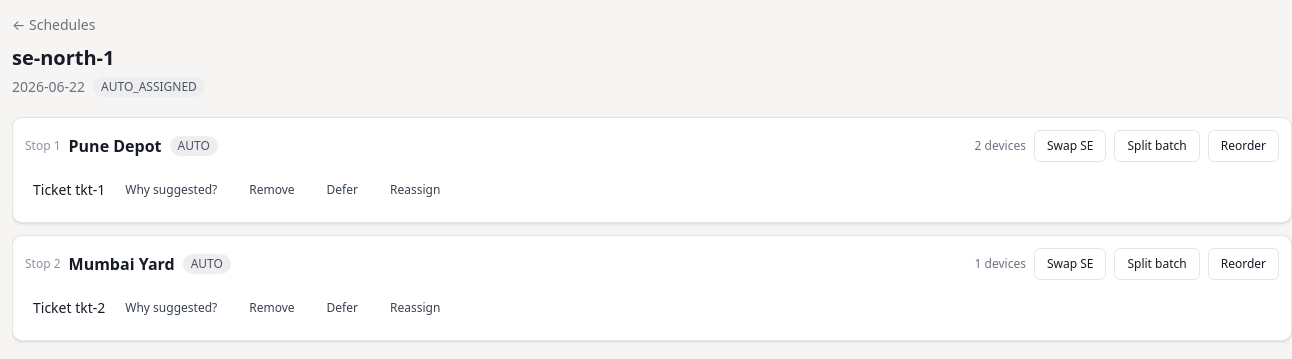
ZM Schedule detail (Issue 13b AC#2) › expands a "Why suggested?" chip to reveal the Recommender reasoning
Expected: the text "PLATINUM" is not shown
Click the button "Why suggested?" next to "tkt-1" at (171, 190), box [113,174,229,206]
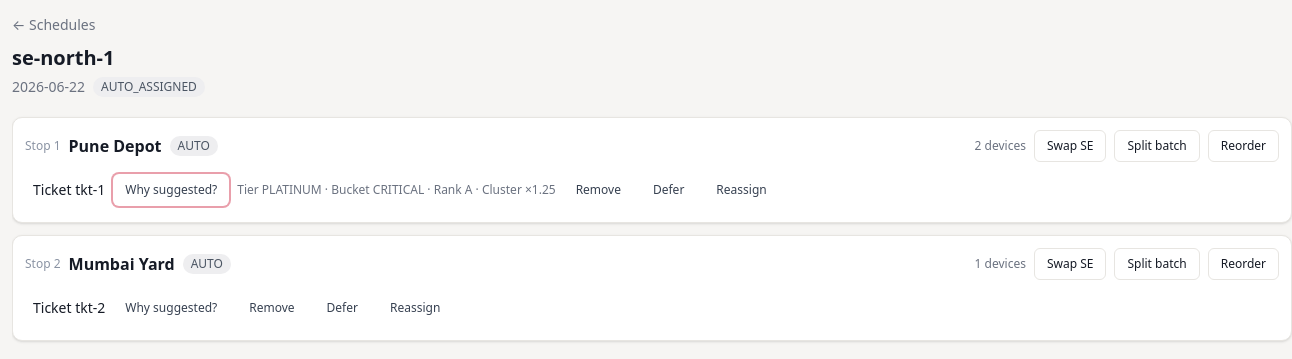
Expected: the text "Tier PLATINUM · Bucket CRITICAL · Rank A · Cluster ×1.25" is shown, [237,181,556,198]
